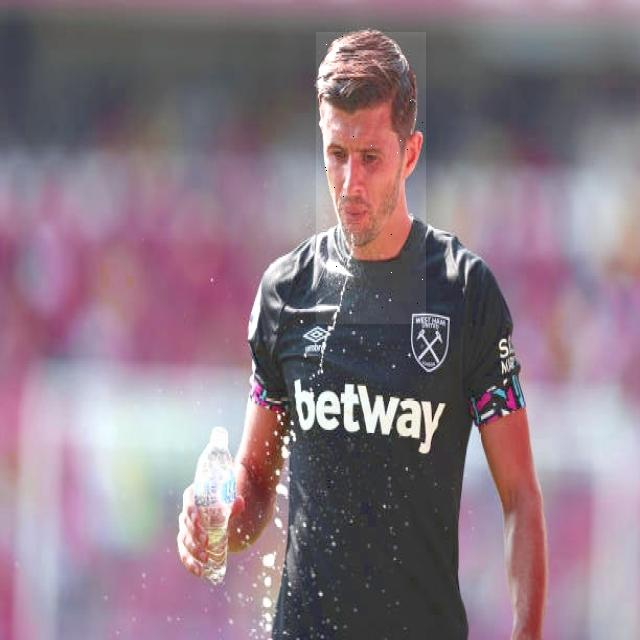Spitting: (316, 32, 426, 324)
